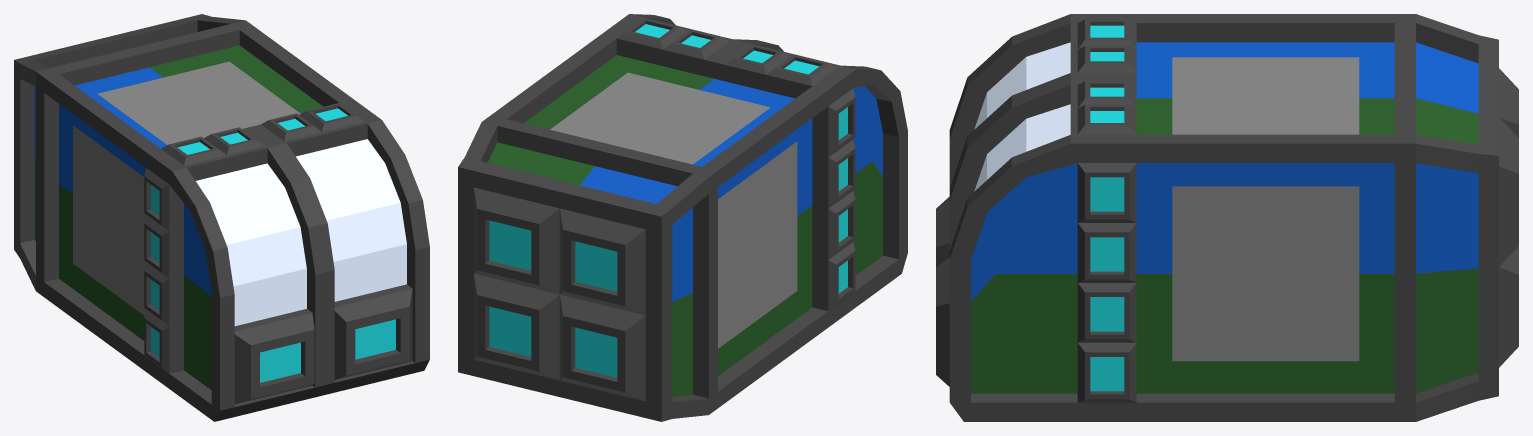
Rendered from MiningDrone.fbx.
3 views of the same model, side by side, from view 1: azimuth 30°, elevation 25°; view 2: azimuth 150°, elevation 25°; view 3: azimuth 270°, elevation 25° (orthographic). The views are drawn at different scales.
Parts seen in each view (by area): view 1: Cube; view 2: Cube; view 3: Cube.
Boxes of the visible parts, x1,y1,x2,y2 form: Cube: [14, 14, 429, 421]; Cube: [458, 14, 907, 421]; Cube: [936, 14, 1518, 421].
Size of the model in its own units: 0.9041 by 0.9039 by 1.64.
